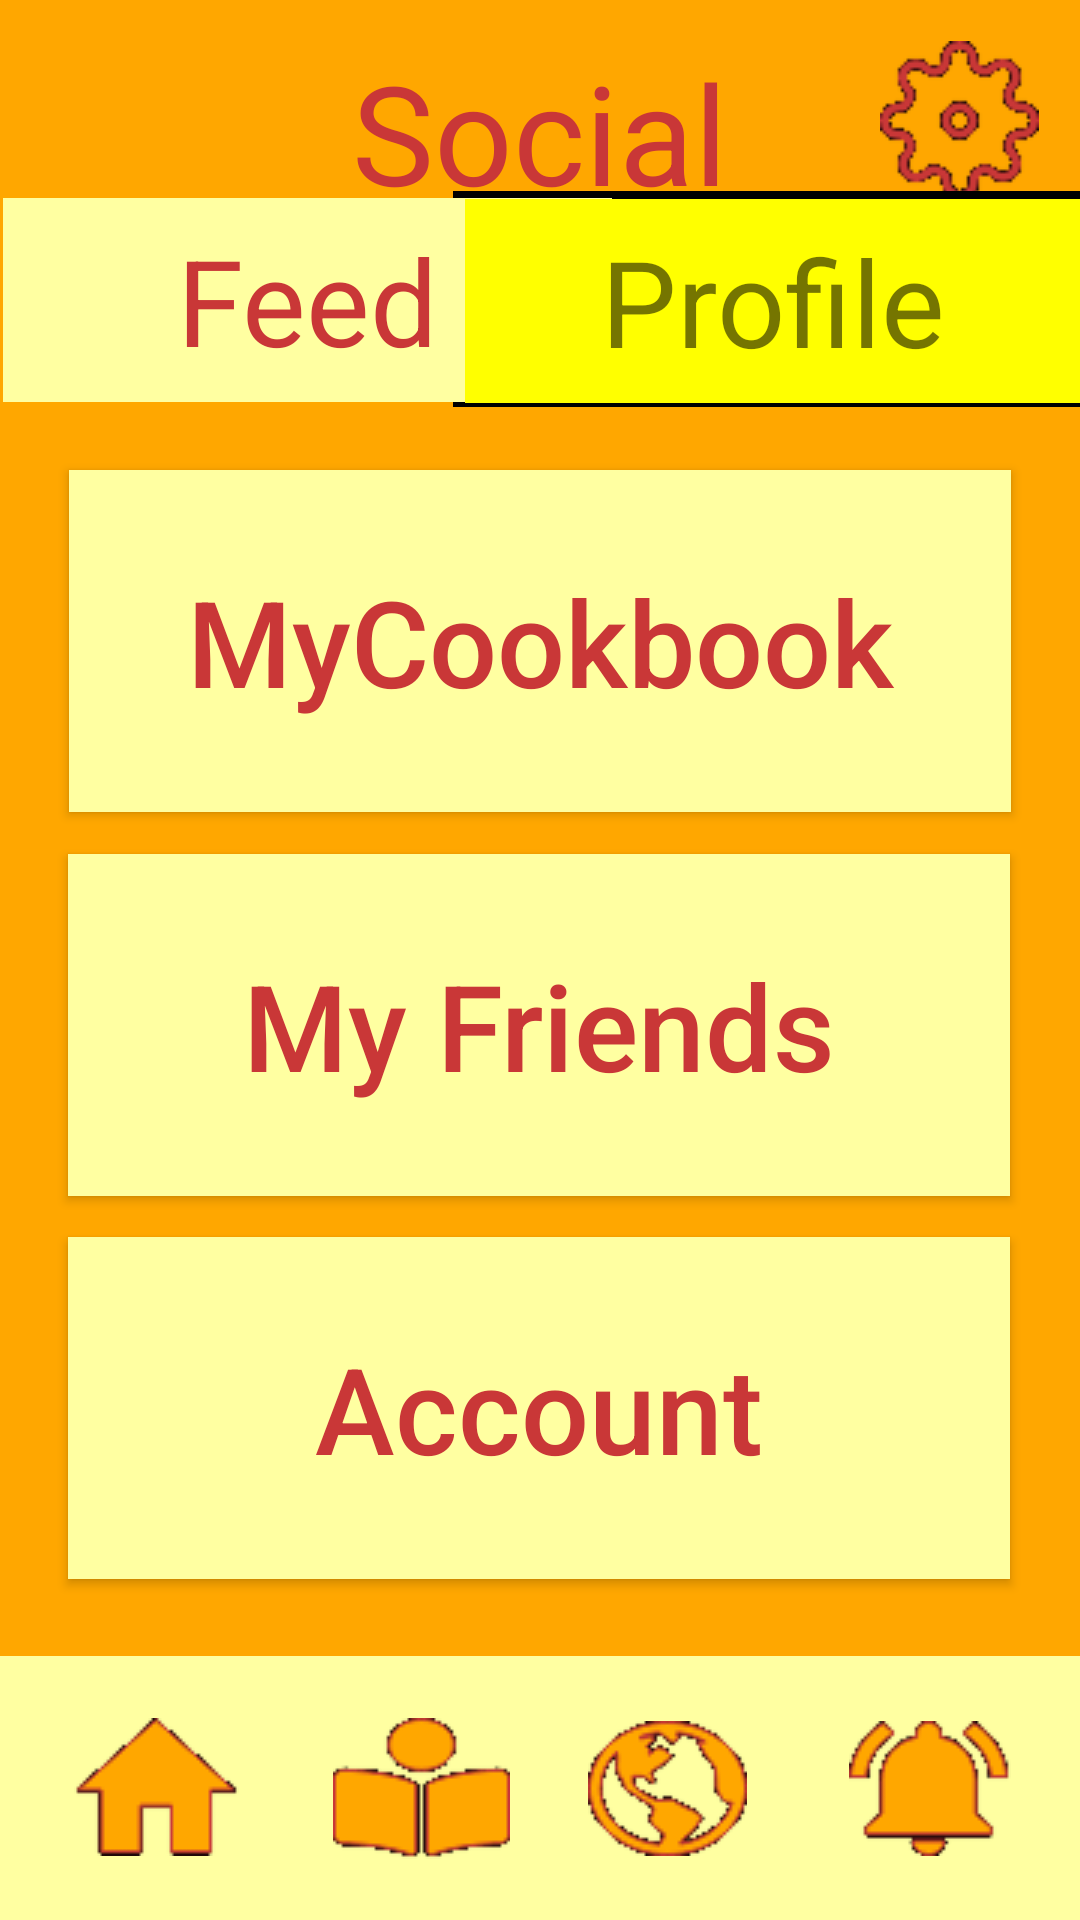

Where icons sit on this 1080px×1920px app screen, as (x1, y1, x2, y2):
cookbookicon: (333, 1718, 510, 1857)
exploreicon: (588, 1721, 747, 1856)
homeorange: (76, 1718, 237, 1856)
notification: (849, 1721, 1009, 1856)
settings: (880, 41, 1039, 200)
